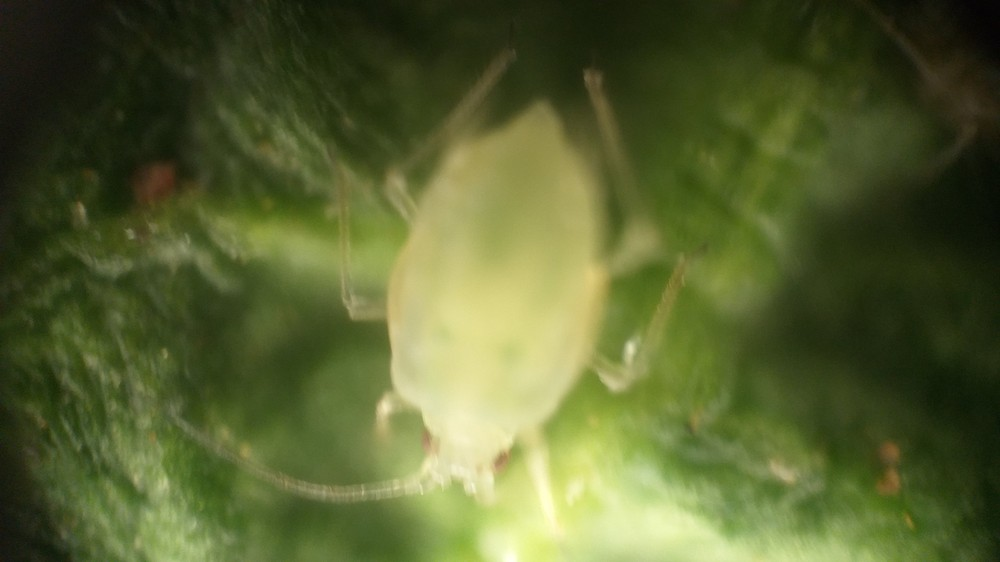Pulgon: (221, 45, 723, 556)
